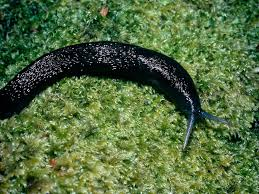slug: (1, 42, 228, 144)
